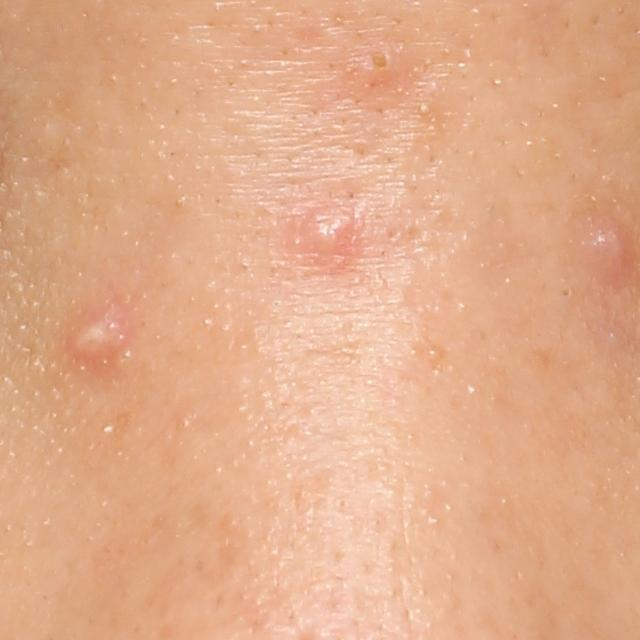papule: (348, 42, 415, 102)
pustule: (63, 298, 143, 372), (573, 217, 637, 287), (299, 203, 370, 262)
